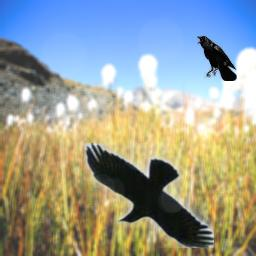Crow: (84, 143, 214, 248), (197, 35, 237, 81)
